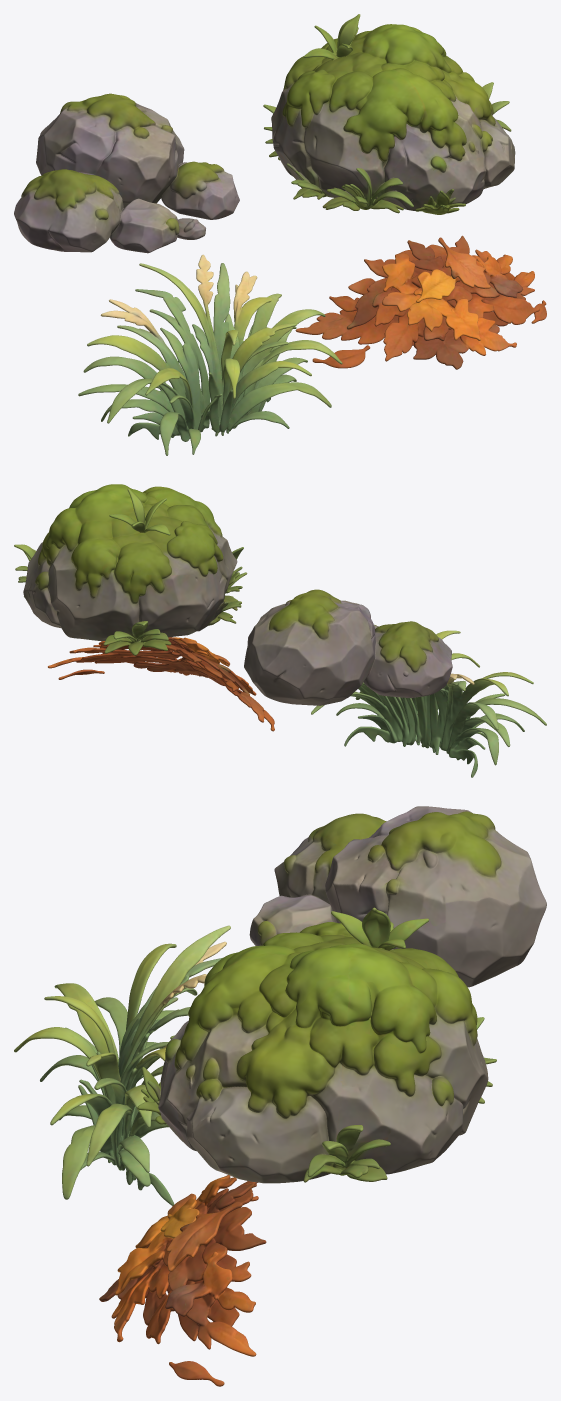
Rendered from rock+cluster+3d+model.glb.
3 views of the same model, one above another, from view 1: azimuth 30°, elevation 25°; view 2: azimuth 150°, elevation 25°; view 3: azimuth 270°, elevation 25° (orthographic). The views are drawn at different scales.
Visible parts, largest first — view 1: tripo_node_56f52764-63db-420f-aab9-913dd84adc2d; view 2: tripo_node_56f52764-63db-420f-aab9-913dd84adc2d; view 3: tripo_node_56f52764-63db-420f-aab9-913dd84adc2d.
Boxes of the visible parts, x1,y1,x2,y2 form: tripo_node_56f52764-63db-420f-aab9-913dd84adc2d: [14, 14, 546, 455]; tripo_node_56f52764-63db-420f-aab9-913dd84adc2d: [14, 484, 546, 777]; tripo_node_56f52764-63db-420f-aab9-913dd84adc2d: [14, 806, 546, 1386].
Bounding box in the file's own units: 1 × 0.5781 × 0.6807.
Materials: 1 (1 with a texture image).
